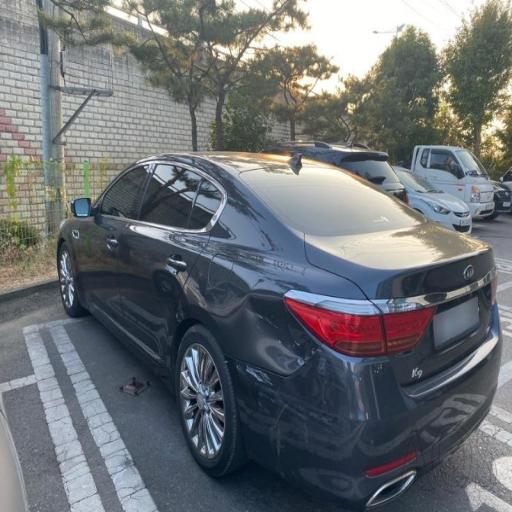dent: (198, 245, 378, 491)
